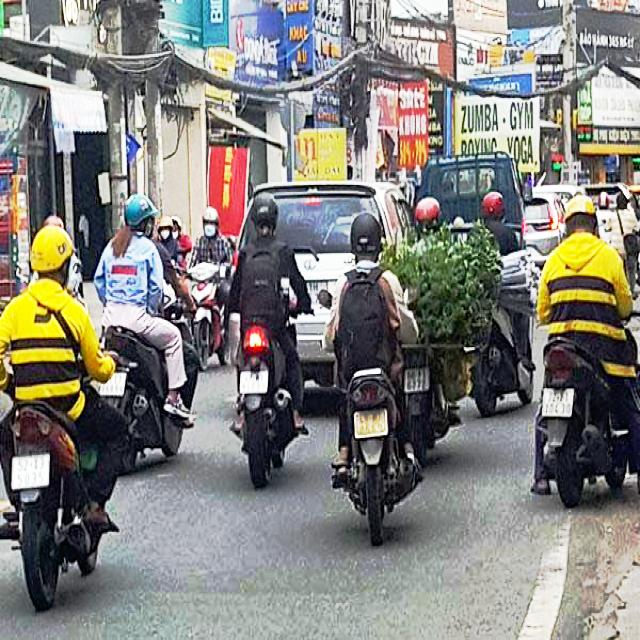license_plate: (12, 456, 48, 490)
